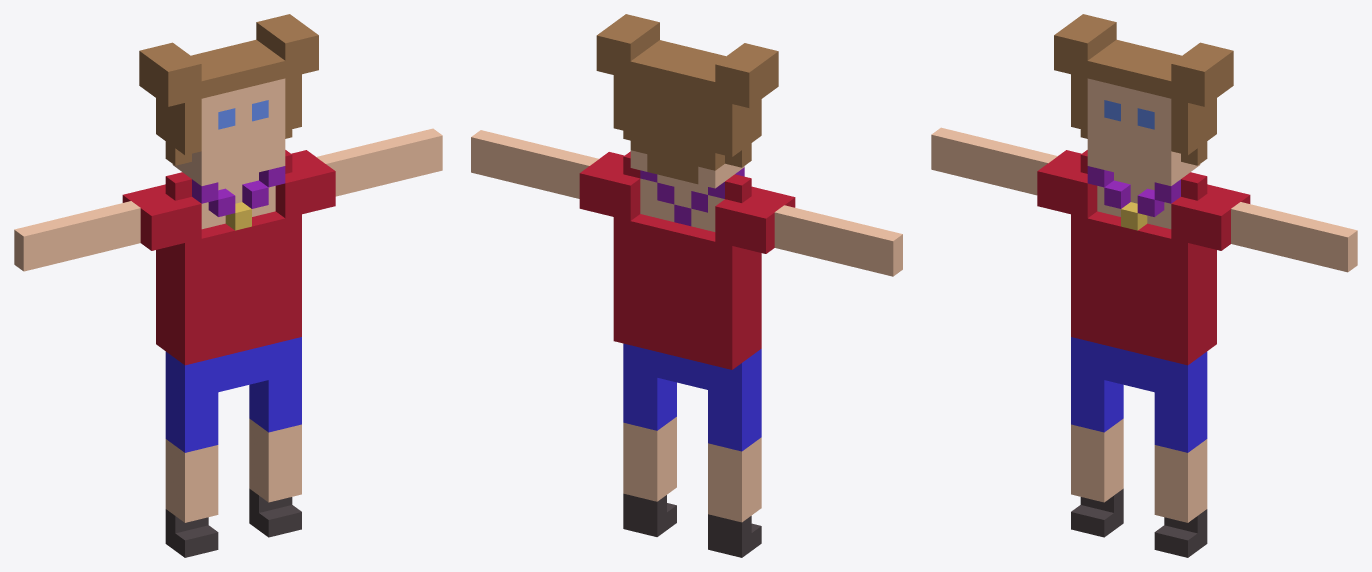
File: personaje_5.glb
The picture shows the model from 3 angles, left to right: view 1: azimuth 30°, elevation 25°; view 2: azimuth 150°, elevation 25°; view 3: azimuth 330°, elevation 25°; orthographic projection.
Parts seen in each view (by area): view 1: personaje_5; view 2: personaje_5; view 3: personaje_5.
Part boxes in pixels (x1,y1,x2,y2): personaje_5: (14, 14, 442, 557); personaje_5: (471, 14, 902, 557); personaje_5: (931, 14, 1357, 557).
Size of the model in its own units: 49.96 by 56 by 6.
